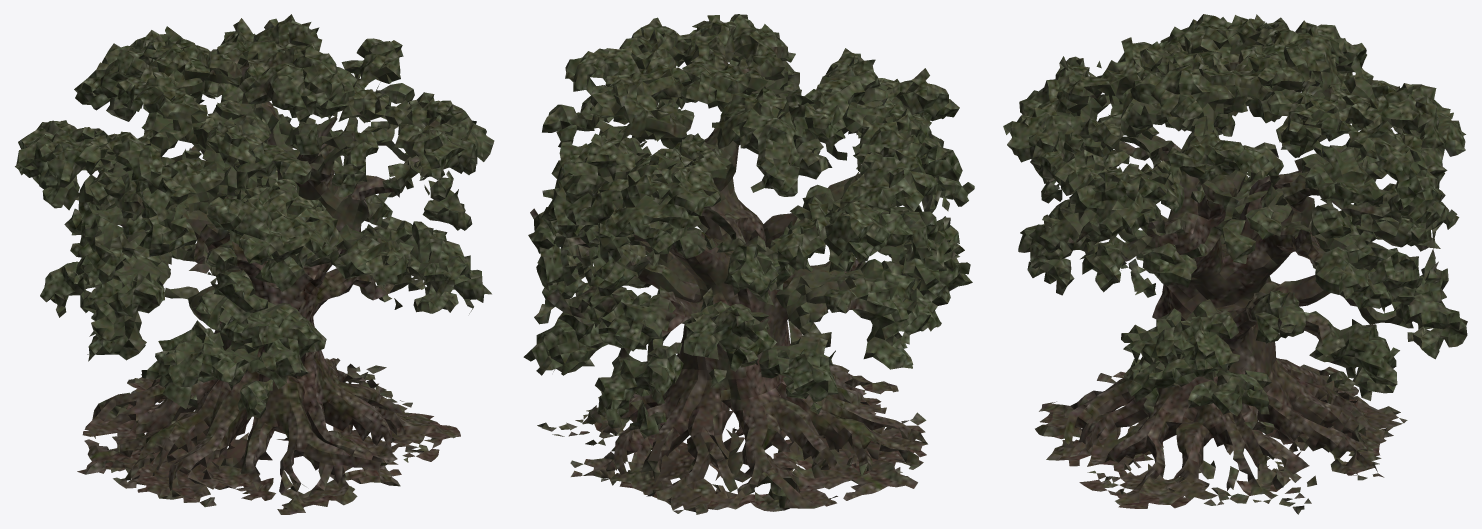
Rendered from m4-pixelated.glb.
The picture shows the model from 3 angles, left to right: view 1: azimuth 30°, elevation 25°; view 2: azimuth 150°, elevation 25°; view 3: azimuth 270°, elevation 25°; orthographic projection. The views are drawn at different scales.
Visible parts, largest first — view 1: m4.glb; view 2: m4.glb; view 3: m4.glb.
Part boxes in pixels (box(x1,y1,x2,y2)): m4.glb: box(15, 14, 494, 514); m4.glb: box(523, 14, 974, 514); m4.glb: box(1003, 14, 1467, 514).
Bounding box in the file's own units: 1.84 × 1.75 × 1.88.
Materials: 1 (1 with a texture image).
